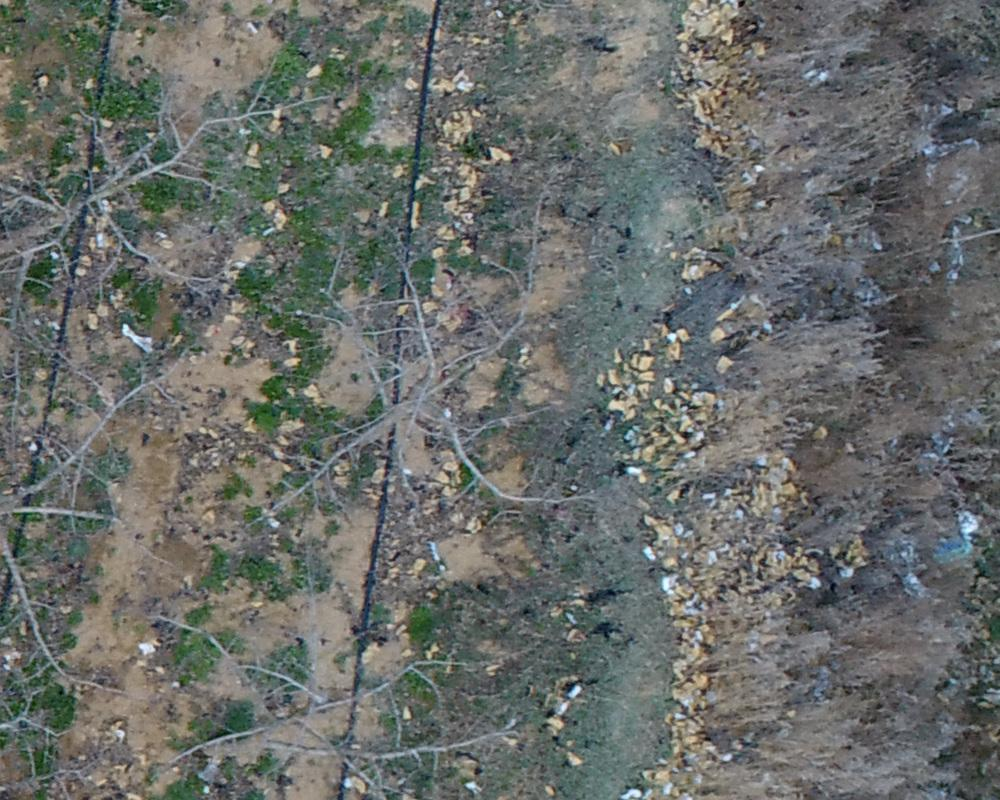apple: (269, 225, 593, 516), (140, 574, 522, 790), (10, 90, 347, 312), (10, 360, 148, 700)
